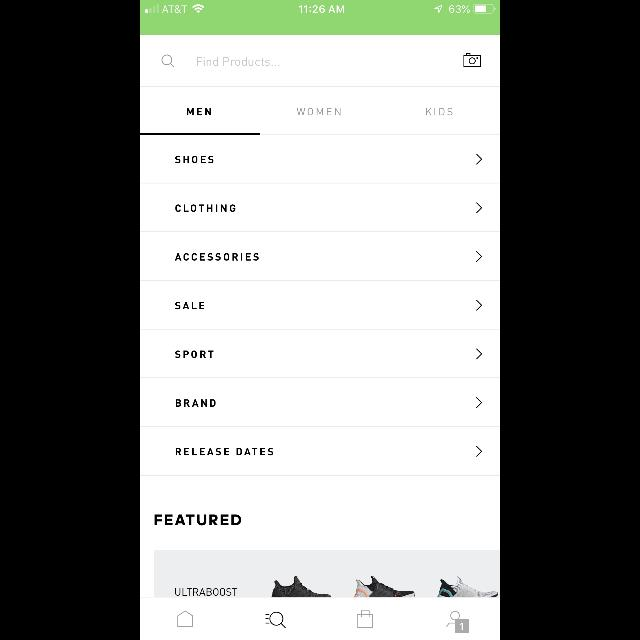icon: (446, 611, 469, 633), (266, 612, 286, 628), (178, 610, 194, 628), (357, 610, 373, 628), (464, 53, 481, 67), (162, 55, 174, 67), (476, 202, 482, 214), (476, 348, 482, 359), (476, 154, 482, 164), (476, 252, 482, 262), (476, 300, 482, 310), (476, 398, 482, 408), (476, 446, 482, 456)
image: (437, 576, 498, 598), (271, 576, 331, 598), (354, 576, 414, 598)
text: (154, 514, 242, 526), (176, 448, 274, 456), (175, 253, 259, 261), (196, 58, 280, 66), (175, 588, 237, 596), (176, 204, 236, 212), (297, 108, 341, 116), (176, 399, 216, 407), (175, 156, 213, 164), (176, 350, 214, 358), (176, 302, 204, 310), (426, 108, 452, 116), (187, 108, 211, 116)
uppertaskbar: (140, 0, 500, 14)
